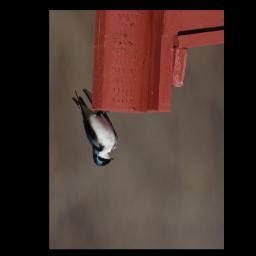Swallow: (72, 89, 119, 167)
